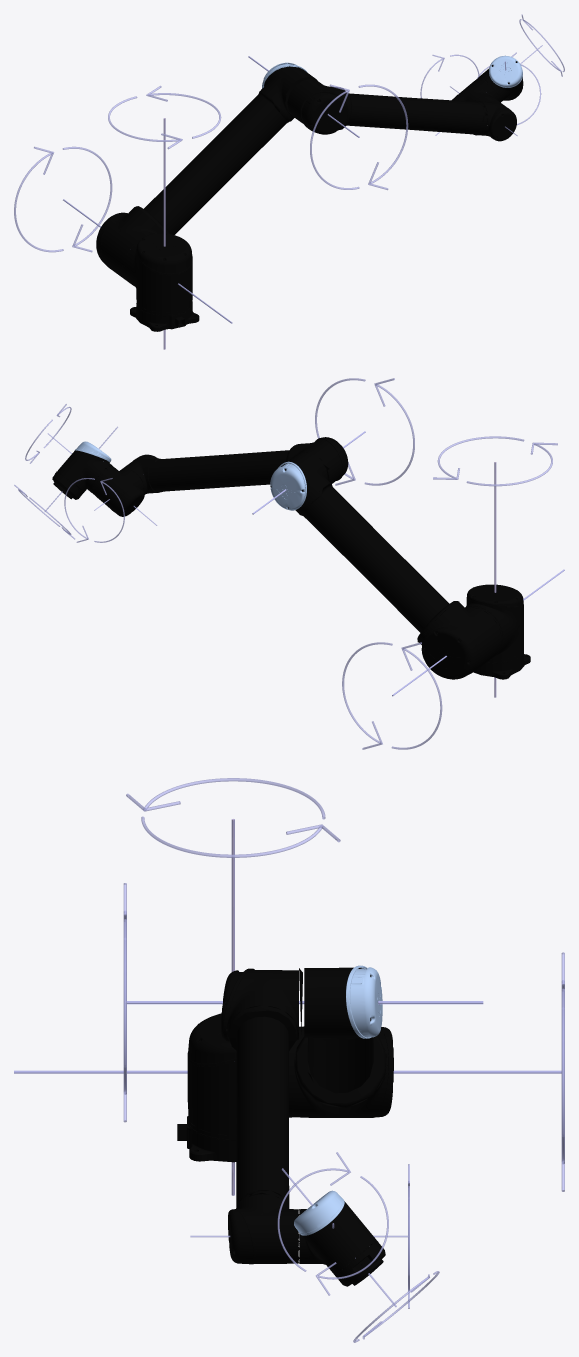
3 renders of one model, top to bottom at view 1: azimuth 30°, elevation 25°; view 2: azimuth 150°, elevation 25°; view 3: azimuth 270°, elevation 25°, orthographic. The views are drawn at different scales.
Parts seen in each view (by area): view 1: Object_5, Object_3, Object_8; view 2: Object_5, Object_3, Object_8; view 3: Object_5, Object_3, Object_8.
Boxes of the visible parts, x1,y1,x2,y2 form: Object_5: (96,61,523,331); Object_3: (14,14,564,349); Object_8: (262,55,522,88); Object_5: (52,437,530,679); Object_3: (14,378,564,749); Object_8: (74,441,306,510); Object_5: (177,967,393,1286); Object_3: (14,778,564,1342); Object_8: (294,965,382,1235).
Size of the model in its own units: 1469 by 756 by 904.
